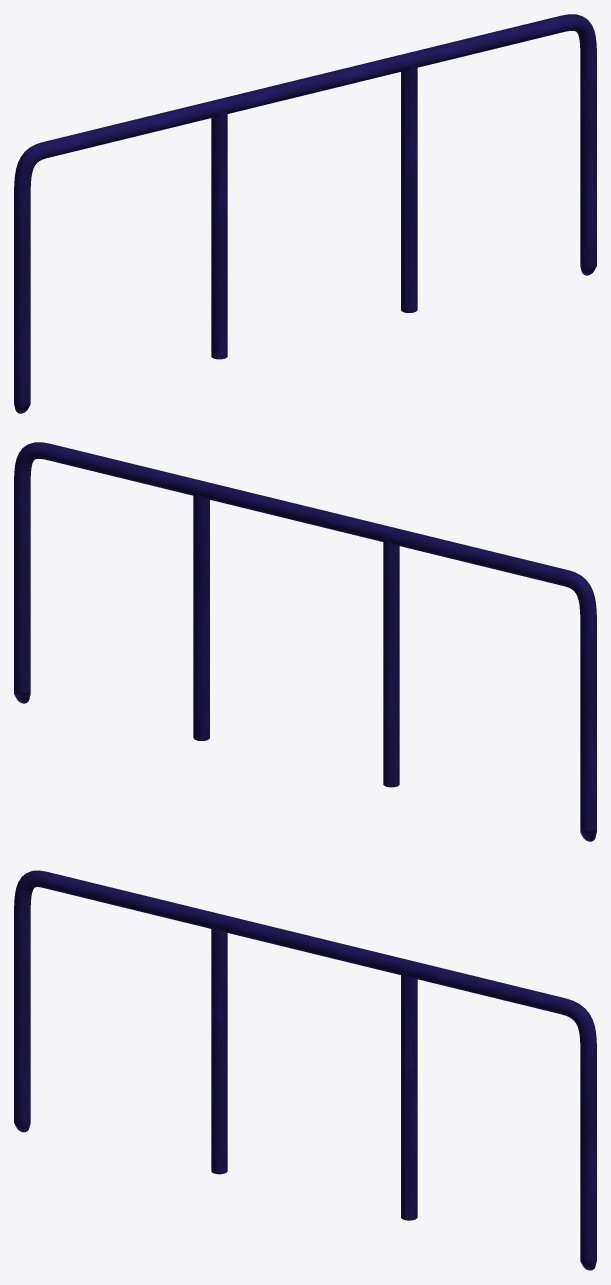
File: horizontalRail.fbx
The picture shows the model from 3 angles, top to bottom: view 1: azimuth 30°, elevation 25°; view 2: azimuth 150°, elevation 25°; view 3: azimuth 330°, elevation 25°; orthographic projection.
Parts seen in each view (by area): view 1: RailHorizontal; view 2: RailHorizontal; view 3: RailHorizontal.
Boxes of the visible parts, bbox=[...] form: RailHorizontal: bbox=[14, 14, 596, 413]; RailHorizontal: bbox=[14, 442, 596, 841]; RailHorizontal: bbox=[14, 870, 596, 1270].
Size of the model in its own units: 243 by 106 by 6.03.
